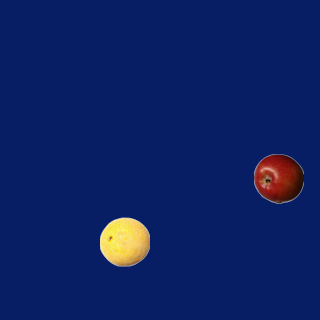Apple Braeburn: (253, 153, 303, 203)
Cantaloupe 1: (99, 216, 149, 266)
